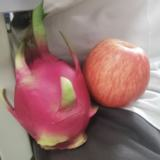apple: (83, 38, 150, 108)
pitaya: (3, 1, 89, 149)
